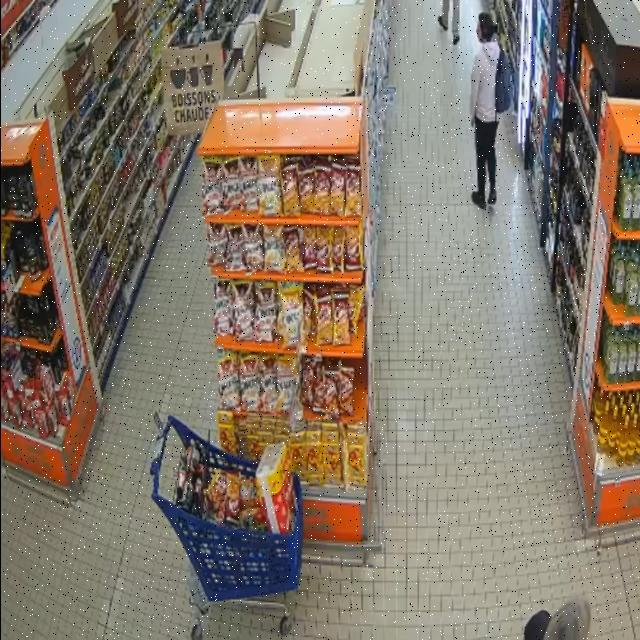bags: (496, 48, 513, 113)
hands: (471, 118, 475, 127)
person: (470, 13, 500, 209), (525, 600, 591, 639), (438, 0, 460, 45)
